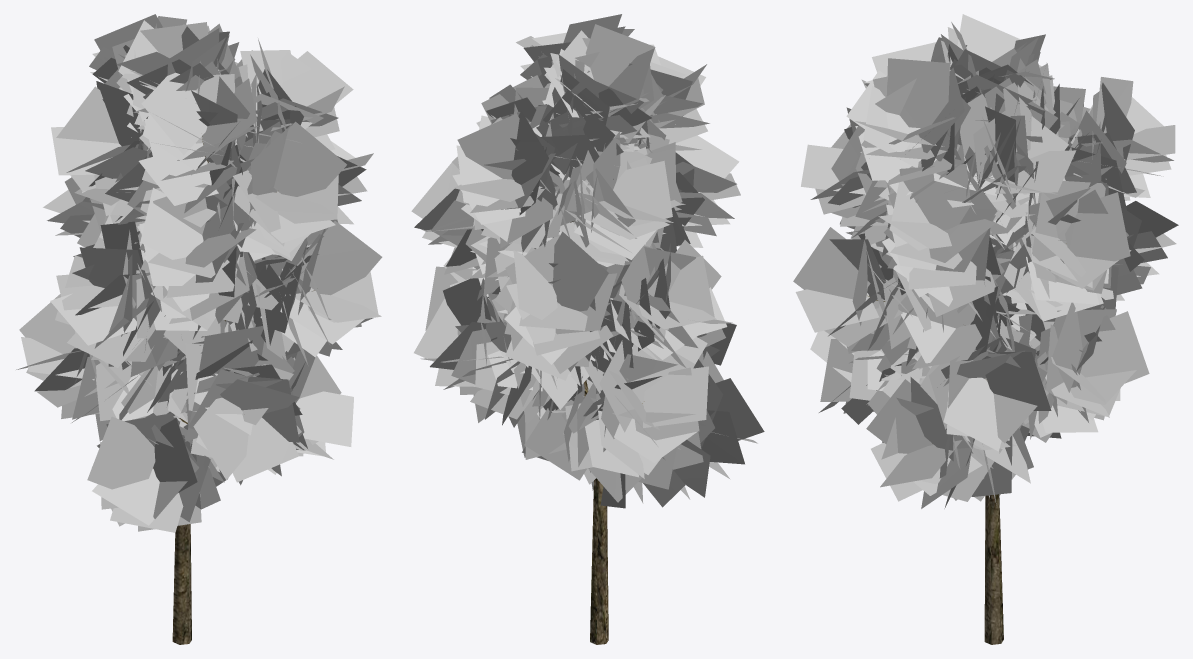
File: SM_Tree01.fbx
3 views of the same model, side by side, from view 1: azimuth 30°, elevation 25°; view 2: azimuth 150°, elevation 25°; view 3: azimuth 270°, elevation 25° (orthographic). The views are drawn at different scales.
Visible parts, largest first — view 1: SM_tree3_17; view 2: SM_tree3_17; view 3: SM_tree3_17.
Boxes of the visible parts, box(x1,y1,x2,y2) form: SM_tree3_17: box(16, 14, 382, 644); SM_tree3_17: box(411, 14, 764, 644); SM_tree3_17: box(793, 14, 1178, 644).
Size of the model in its own units: 441 by 857 by 486.
